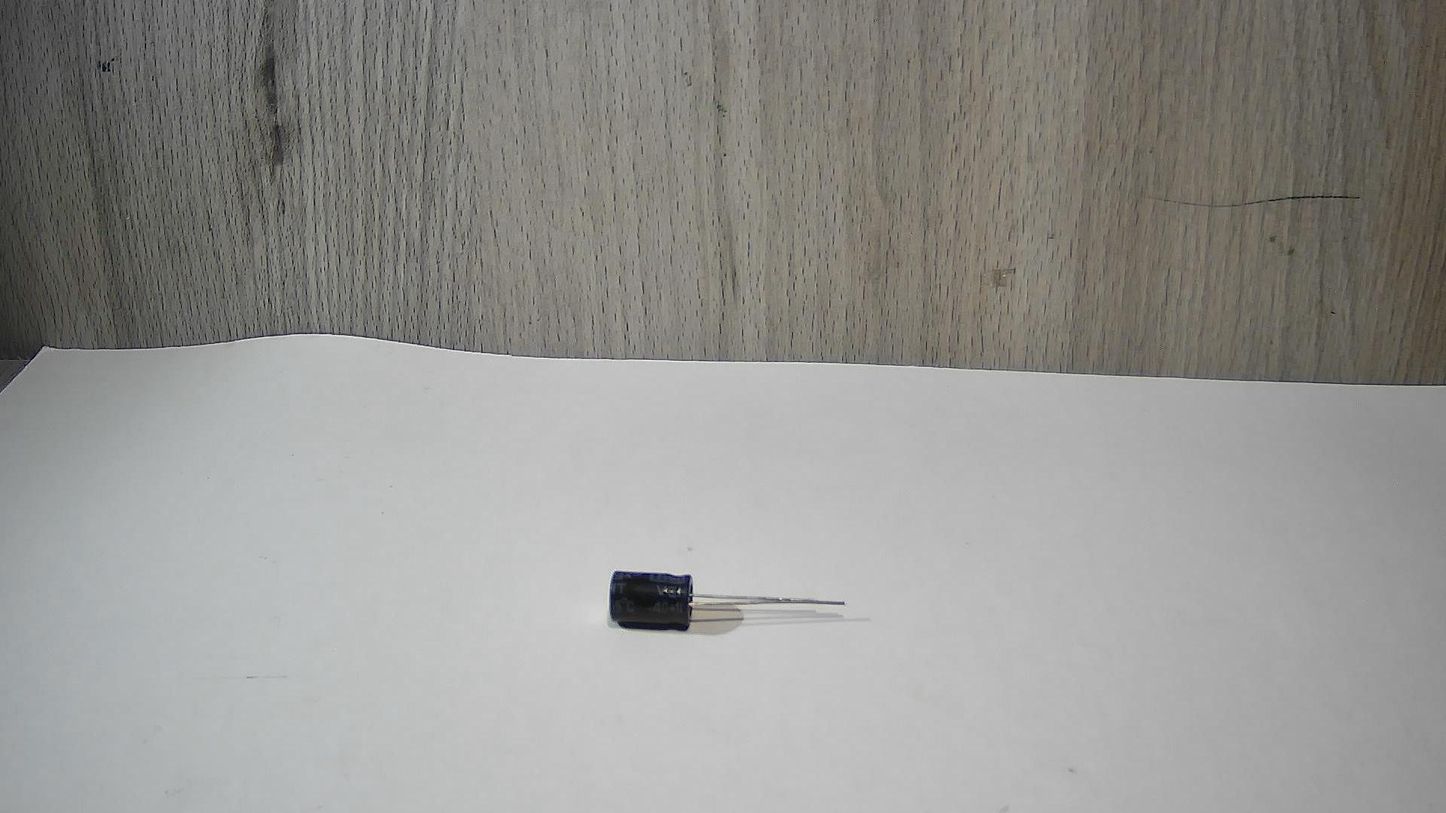Capacitor: (605, 552, 838, 665)
